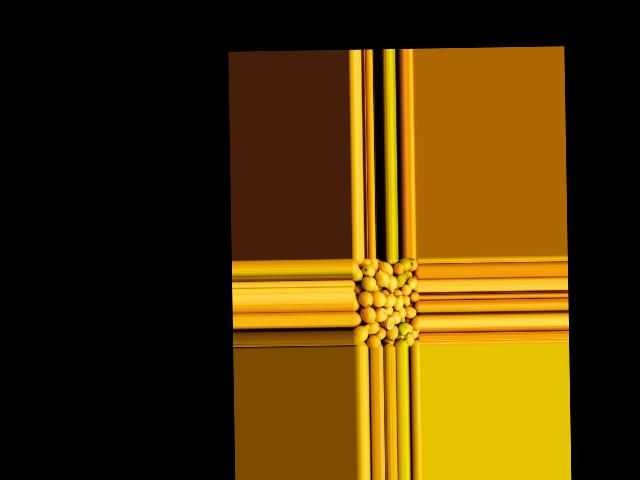lemon: (351, 297, 359, 311)
